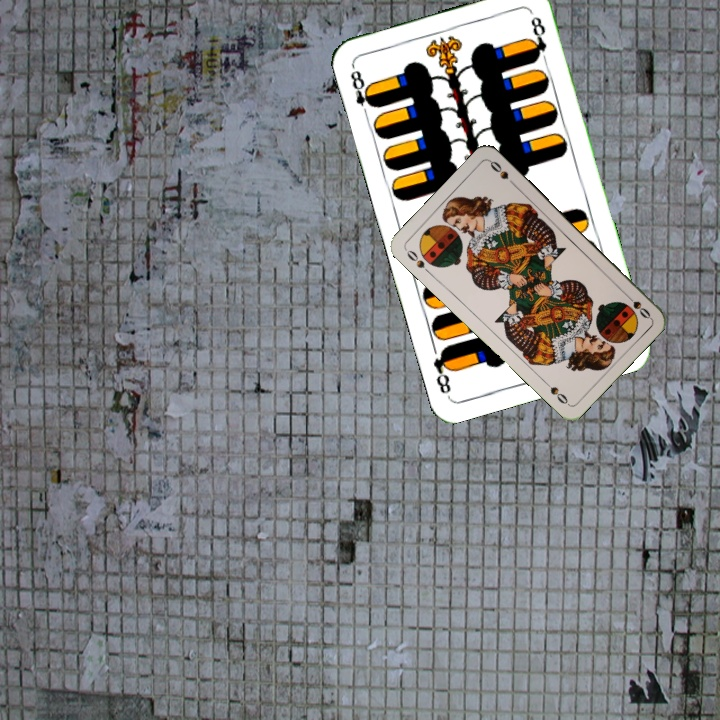E8: (346, 66, 379, 120)
SO: (620, 289, 653, 321), (402, 245, 434, 277)
